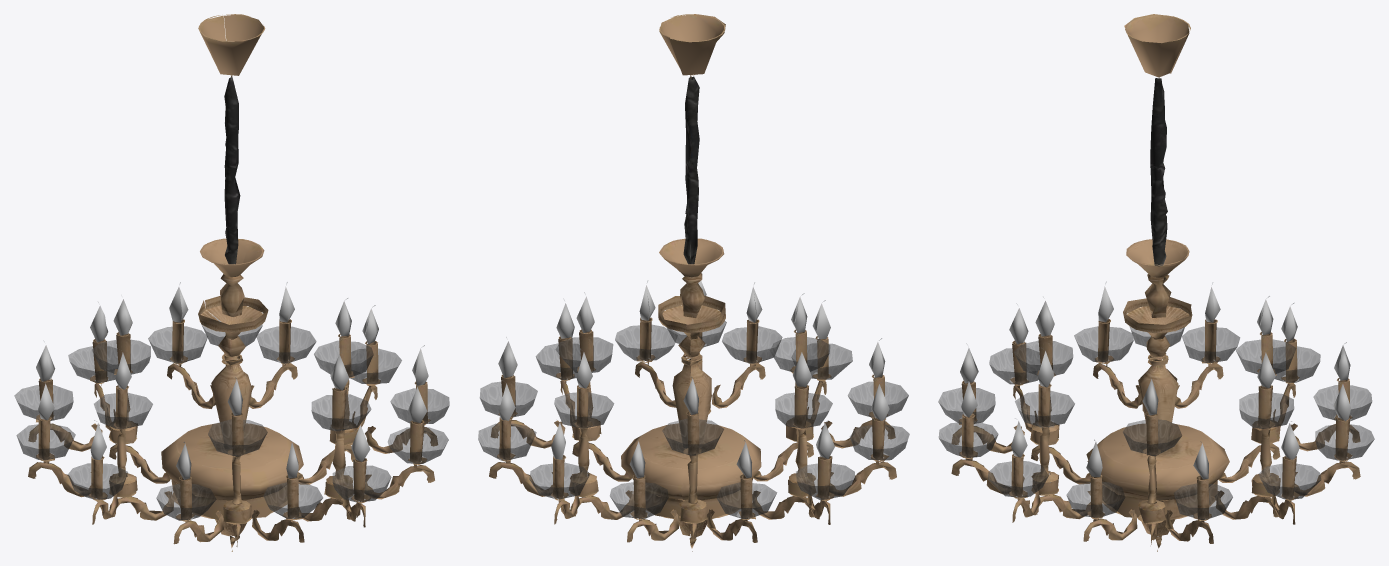
Rendered from ph_Chandelier_03.glb.
The picture shows the model from 3 angles, left to right: view 1: azimuth 30°, elevation 25°; view 2: azimuth 150°, elevation 25°; view 3: azimuth 270°, elevation 25°; orthographic projection.
Parts seen in each view (by area): view 1: Chandelier_03; view 2: Chandelier_03; view 3: Chandelier_03.
Part boxes in pixels (left/top/right/bottom): Chandelier_03: left=14, top=14, right=449, bottom=551; Chandelier_03: left=478, top=14, right=909, bottom=551; Chandelier_03: left=938, top=14, right=1374, bottom=551.
Bounding box in the file's own units: 0.7781 × 1.04 × 0.7881.
Materials: 2 (2 with a texture image).
